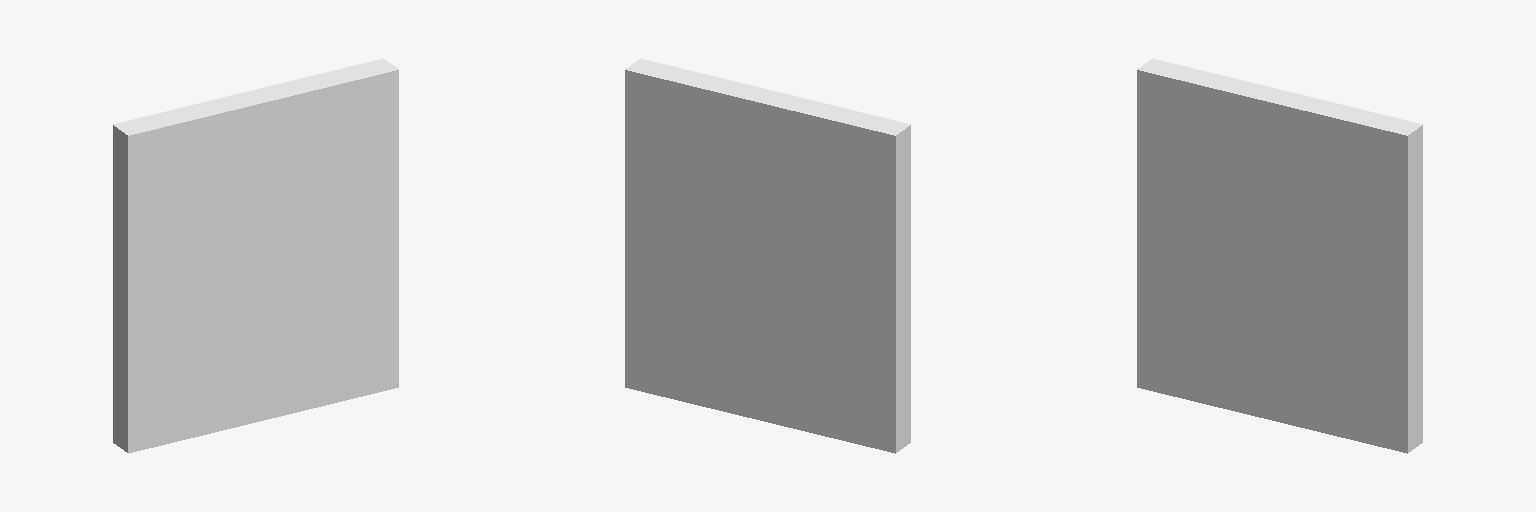
File: duct.obj
3 renders of one model, left to right at view 1: azimuth 30°, elevation 25°; view 2: azimuth 150°, elevation 25°; view 3: azimuth 330°, elevation 25°, orthographic.
Visible parts, largest first — view 1: wall_1_4, wall_1_3, wall_1_5, wall_1_6; view 2: wall_1_3, wall_1_4, wall_1_5, wall_1_6; view 3: wall_1_4, wall_1_3, wall_1_5, wall_1_6.
Part boxes in pixels (x1,y1,x2,y2): wall_1_4: (120,70,398,453); wall_1_3: (113,125,119,446); wall_1_5: (113,58,390,129); wall_1_6: (121,64,398,135); wall_1_3: (625,70,903,453); wall_1_4: (904,125,910,446); wall_1_5: (625,64,902,135); wall_1_6: (633,58,910,129); wall_1_4: (1137,70,1415,453); wall_1_3: (1416,125,1422,446); wall_1_5: (1145,58,1422,129); wall_1_6: (1137,64,1414,135).
Bounding box in the file's own units: 100 × 112 × 10.